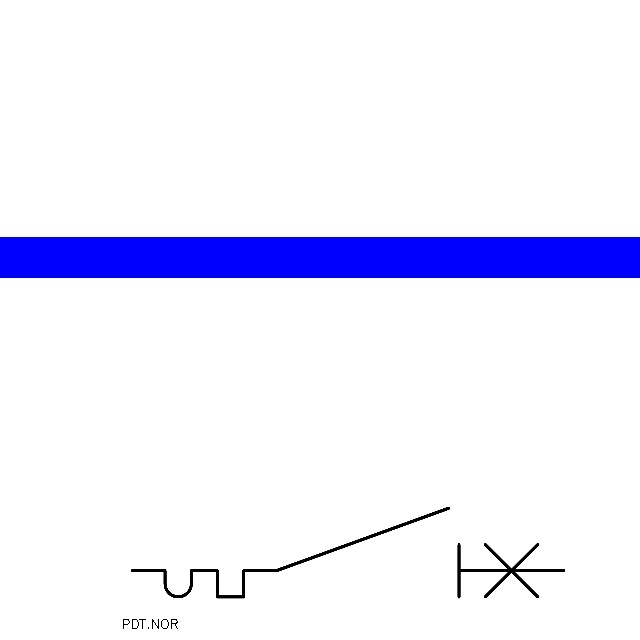interruptor_termomagnetico: (121, 497, 575, 608)
